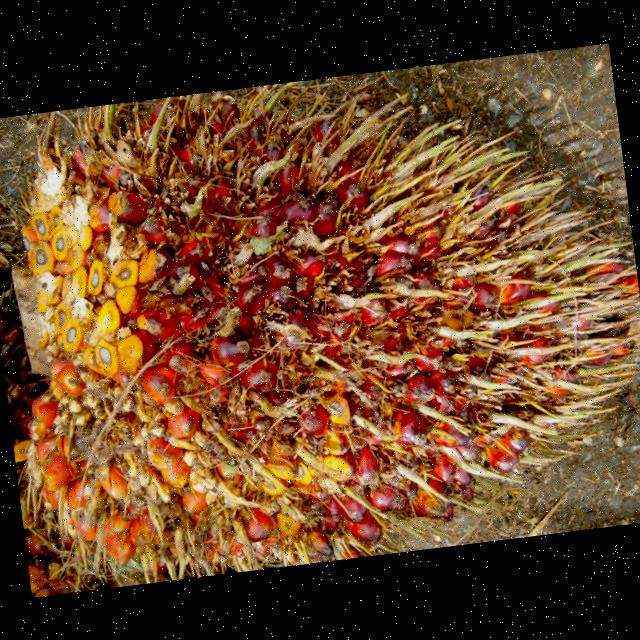Ripe: (11, 100, 628, 570)
